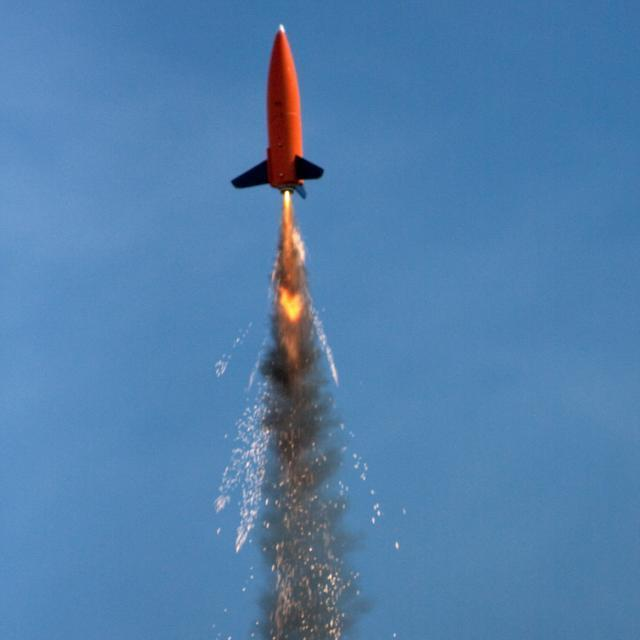Missile: (261, 11, 305, 201)
